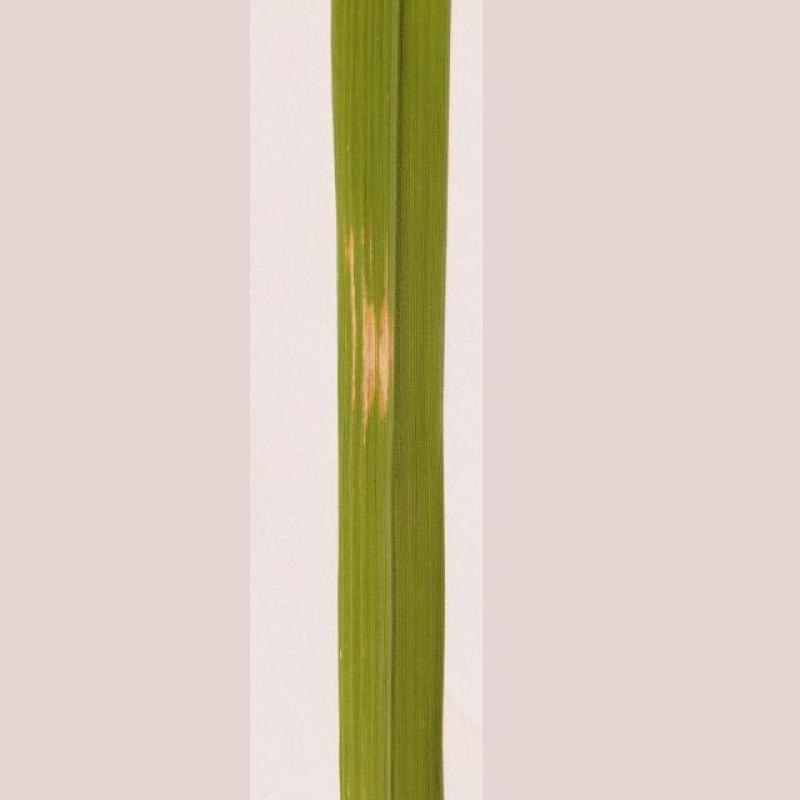Bacterial_Leaf_Blight: (308, 150, 458, 775)
